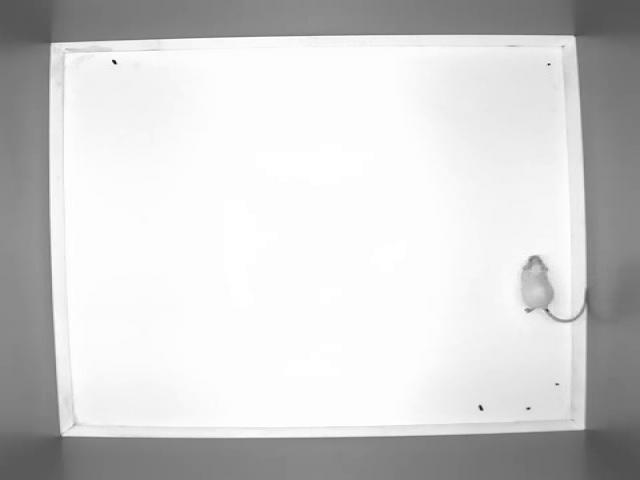Tikus: (519, 253, 588, 324)
